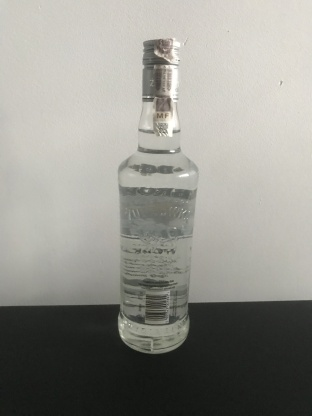nakretka: (140, 36, 182, 103)
